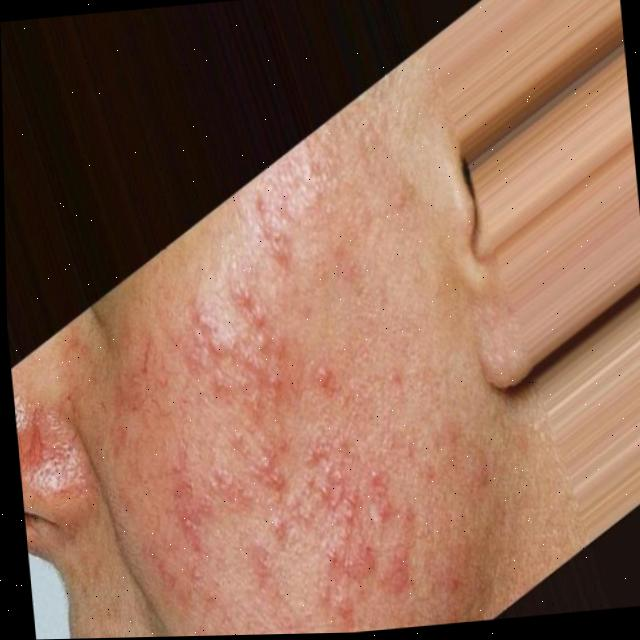Rosacea: (127, 182, 463, 637)
